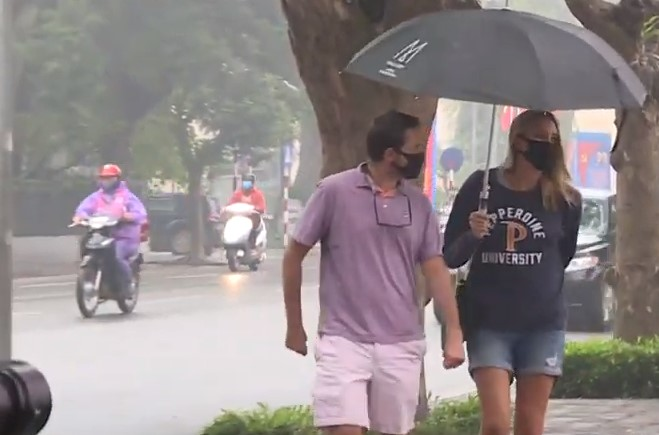face_with_mask: (364, 110, 430, 183), (508, 109, 564, 175), (95, 162, 122, 194), (239, 170, 256, 192)
